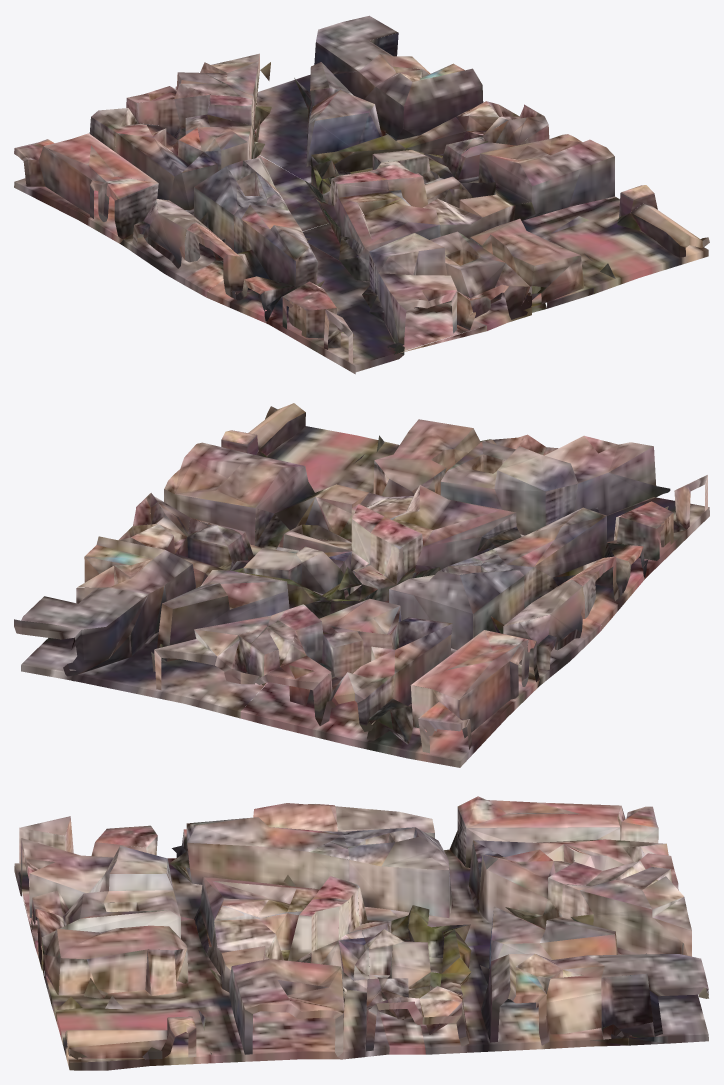
The picture shows the model from 3 angles, top to bottom: view 1: azimuth 30°, elevation 25°; view 2: azimuth 150°, elevation 25°; view 3: azimuth 270°, elevation 25°; orthographic projection. The views are drawn at different scales.
Visible parts, largest first — view 1: Mesh_0; view 2: Mesh_0; view 3: Mesh_0.
Boxes of the visible parts, left/top/right/bottom form: Mesh_0: left=14, top=15, right=709, bottom=374; Mesh_0: left=14, top=403, right=709, bottom=767; Mesh_0: left=14, top=796, right=708, bottom=1070.
Size of the model in its own units: 267 by 43.4 by 330.
Materials: 2 (2 with a texture image).
